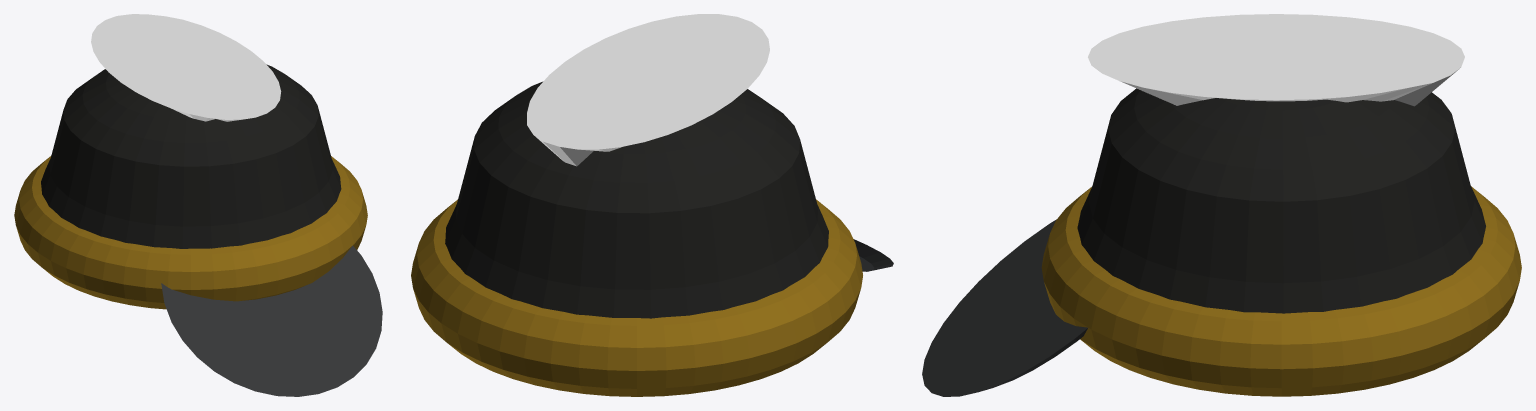
File: helm.glb
3 views of the same model, side by side, from view 1: azimuth 30°, elevation 25°; view 2: azimuth 150°, elevation 25°; view 3: azimuth 270°, elevation 25° (orthographic). The views are drawn at different scales.
Parts seen in each view (by area): view 1: Sphere, Torus, Cylinder.001, Cylinder; view 2: Sphere, Torus, Cylinder, Cylinder.001; view 3: Sphere, Torus, Cylinder, Cylinder.001.
Part boxes in pixels (left/top/right/bottom): Sphere: left=41, top=64, right=341, bottom=248; Torus: left=14, top=156, right=367, bottom=309; Cylinder.001: left=161, top=245, right=382, bottom=396; Cylinder: left=91, top=14, right=281, bottom=121; Sphere: left=445, top=81, right=828, bottom=318; Torus: left=411, top=199, right=862, bottom=396; Cylinder: left=527, top=14, right=769, bottom=166; Cylinder.001: left=853, top=239, right=893, bottom=271; Sphere: left=1077, top=88, right=1485, bottom=313; Torus: left=1041, top=186, right=1521, bottom=396; Cylinder: left=1088, top=14, right=1464, bottom=106; Cylinder.001: left=922, top=219, right=1087, bottom=396.
Size of the model in its own units: 2.3 by 1.67 by 2.87.
